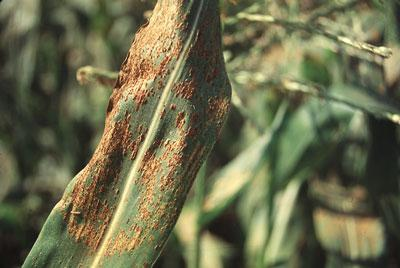Corn_Common_Rust: (100, 0, 233, 120), (102, 121, 176, 255), (50, 138, 102, 250), (177, 120, 230, 217), (134, 258, 153, 268)
